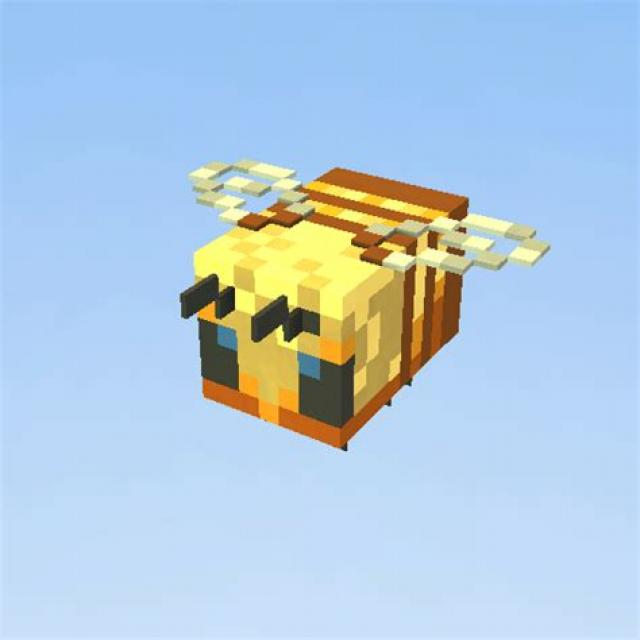Bee: (180, 156, 552, 454)
